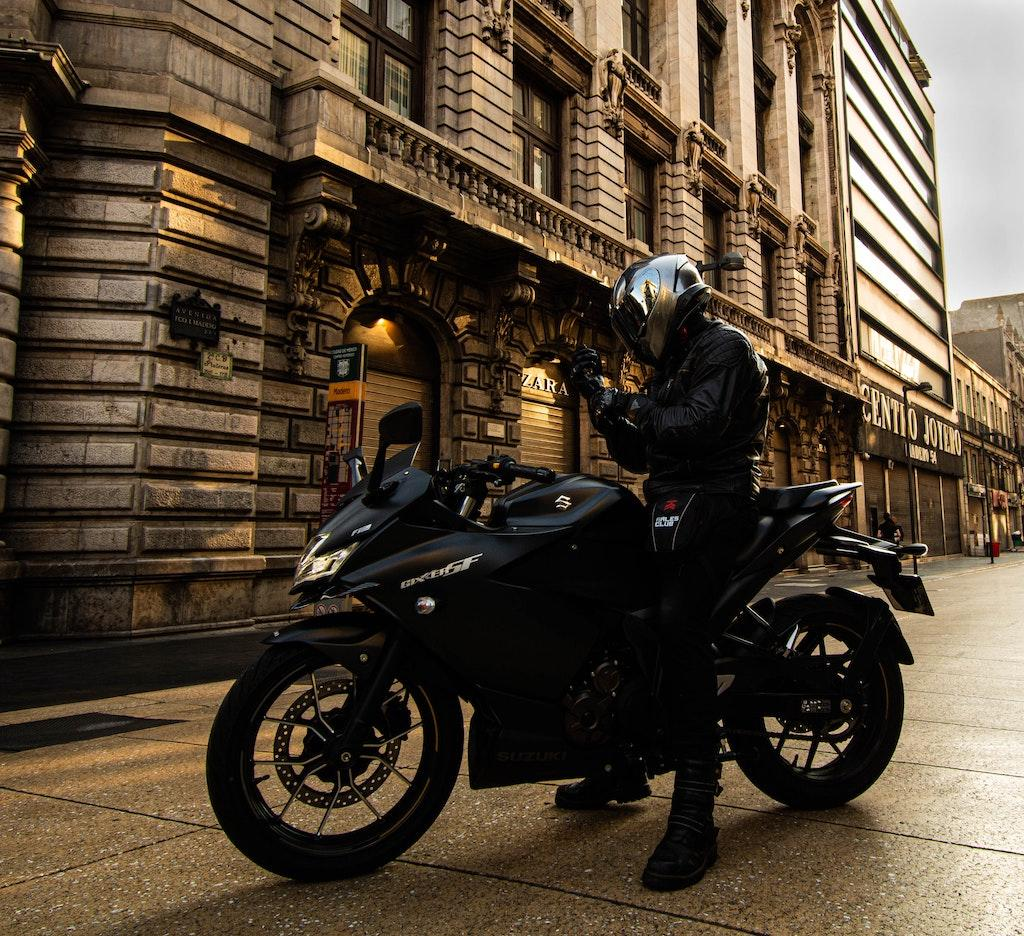helmet: (607, 252, 714, 371)
